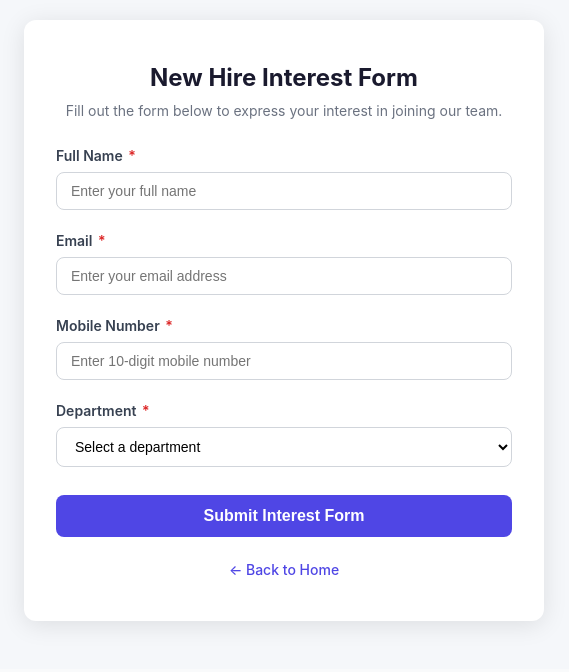
Scenario: InterestForm › duplicate email error › shows duplicate email error when email already exists
The image size is (569, 672).
Type "John Doe" into the field labelled "Full Name *". click: {"x": 284, "y": 191}
box: [56,172,512,210]
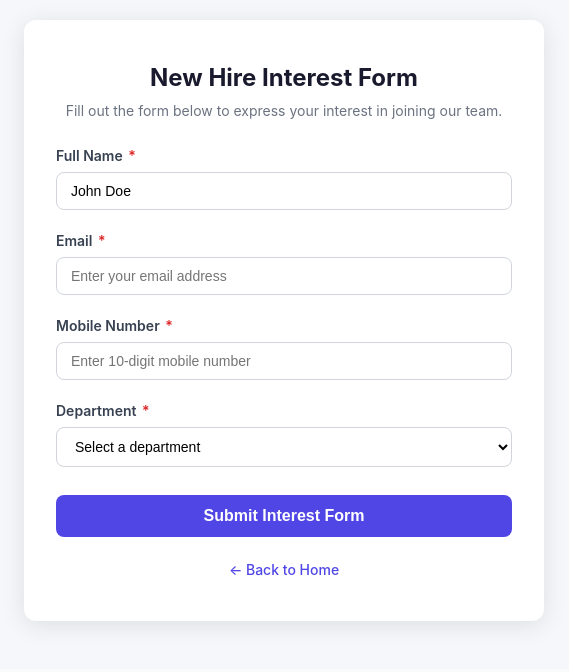
Type "existing@example.com" into the field labelled "Email *". click: {"x": 284, "y": 276}
box: [56,257,512,295]
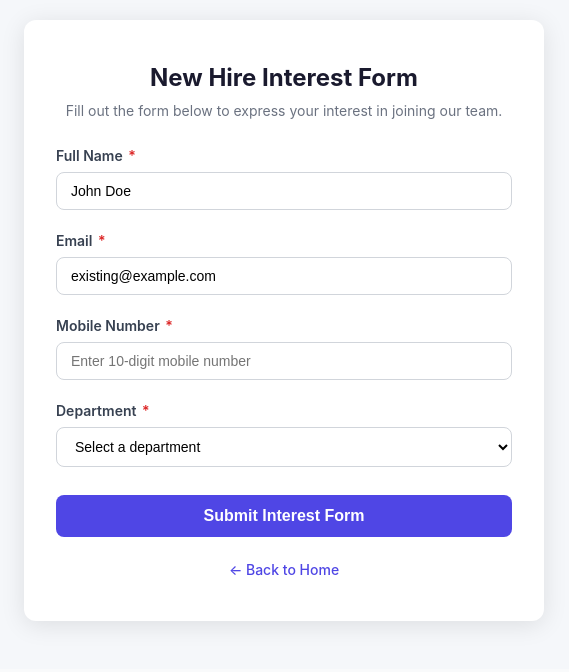
Type "9876543210" into the field labelled "Mobile Number *". click: {"x": 284, "y": 361}
box: [56,342,512,380]
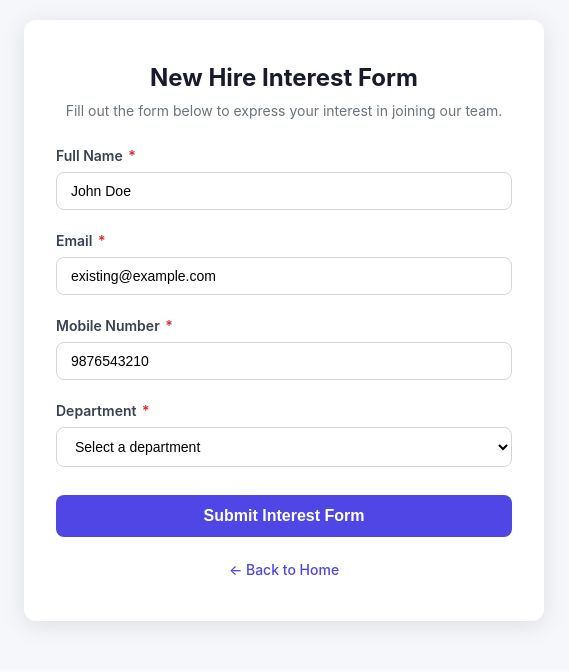
Select "Engineering" in the dropdown labelled "Department *". click: {"x": 284, "y": 447}
box: [56,427,512,467]
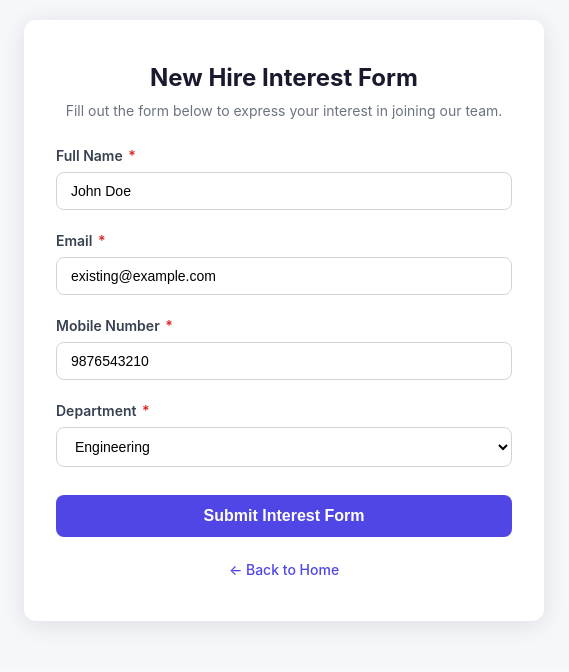
Click the button "Submit Interest Form". click: {"x": 284, "y": 516}
box: [56,495,512,537]
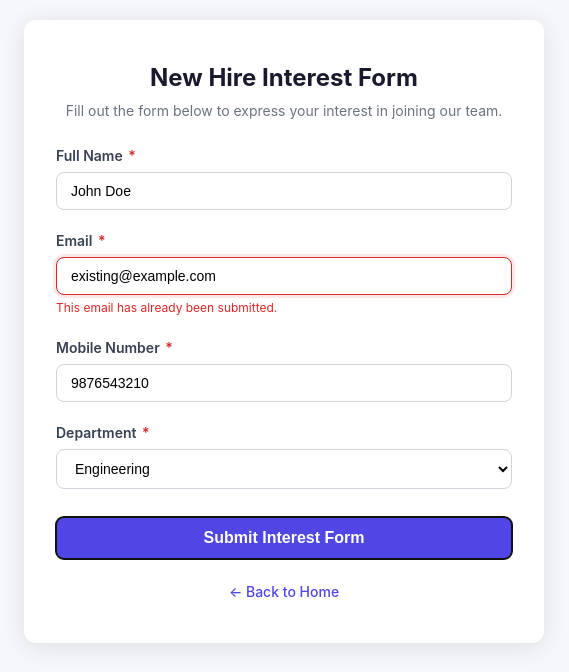
Check: the text "This email has already been submitted." is shown, box [56,300,277,315]
